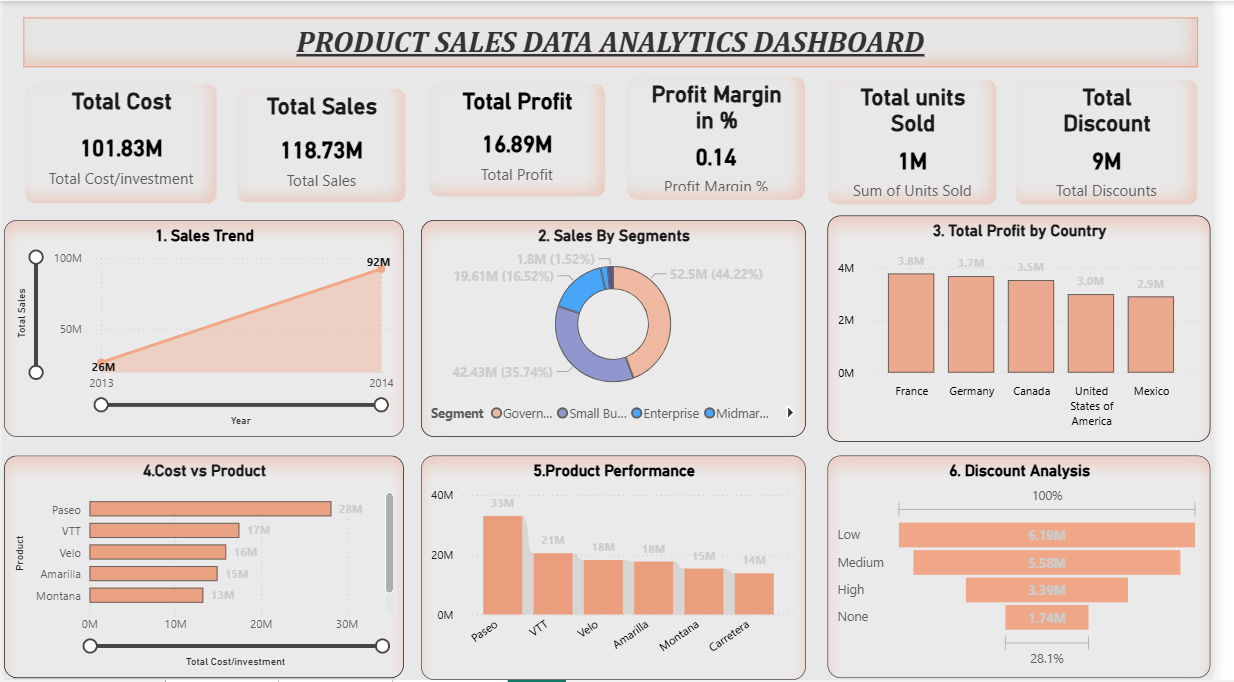

This screenshot's page, from the dashboard's own definition file:
{"tool":"powerbi","page":{"name":"Page 1","canvas":[1280,720],"ordinal":0},"visuals":[{"type":"card","title":"Total Sales","fields":{"Values":["financials.Total Sales"]},"box":[246,92,180,122],"z":0},{"type":"card","title":"Profit Margin in %","fields":{"Values":["financials.Profit Margin %"]},"box":[660,80,190,132],"z":1000},{"type":"card","title":"Total units Sold","fields":{"Values":["Sum(financials.Units Sold)"]},"box":[874,82,180,134],"z":2000},{"type":"card","title":"Total Profit","fields":{"Values":["financials.Total Profit"]},"box":[1092.7,0,187.7,120.9],"z":3000},{"type":"lineChart","title":"1. Sales Trend","fields":{"Y":["financials.Total Sales"],"Category":["financials.Date.Variation.Date Hierarchy.Year"]},"box":[0,232,424,230],"z":4000},{"type":"columnChart","title":"3. Total Profit by Country","fields":{"Category":["financials.Country"],"Y":["financials.Total Profit"]},"box":[874,228,406,240],"z":5000},{"type":"columnChart","title":"5.Product Performance","fields":{"Category":["financials.Product"],"Y":["Sum(financials. Sales)"]},"box":[442,482,408,238],"z":6000},{"type":"textbox","box":[20.7,17.5,1245.4,52.5],"z":7000},{"type":"donutChart","title":"2. Sales By Segments","fields":{"Y":["Sum(financials. Sales)"],"Category":["financials.Segment"]},"box":[442,232,408,230],"z":8000},{"type":"funnel","title":"6. Discount Analysis","fields":{"Category":["financials.Discount Band"],"Y":["Sum(financials.Profit)"]},"box":[874,482,406,236],"z":9000},{"type":"card","title":"Total Discount ","fields":{"Values":["financials.Total Discounts"]},"box":[1072,82,194,134],"z":10000},{"type":"card","title":"Total Cost","fields":{"Values":["financials.Total Cost/investment"]},"box":[22,88,204,128],"z":11000},{"type":"barChart","title":"4.Cost vs Product","fields":{"Category":["financials.Product"],"Y":["financials.Total Cost/investment"]},"box":[0,482,424,236],"z":12000}]}

Visuals, with their boxes in screenshot pixels (x1, y1, x2, y2), scaled from the page's 1280x720 canvas onto the 1234x682 screenshot:
"Total Sales" card: [left=237, top=87, right=411, bottom=203]
"Profit Margin in %" card: [left=636, top=76, right=819, bottom=201]
"Total units Sold" card: [left=843, top=78, right=1016, bottom=205]
"Total Profit" card: [left=1053, top=0, right=1233, bottom=115]
"1. Sales Trend" lineChart: [left=0, top=220, right=409, bottom=438]
"3. Total Profit by Country" columnChart: [left=843, top=216, right=1233, bottom=443]
"5.Product Performance" columnChart: [left=426, top=457, right=819, bottom=681]
textbox: [left=20, top=17, right=1221, bottom=66]
"2. Sales By Segments" donutChart: [left=426, top=220, right=819, bottom=438]
"6. Discount Analysis" funnel: [left=843, top=457, right=1233, bottom=680]
"Total Discount " card: [left=1033, top=78, right=1221, bottom=205]
"Total Cost" card: [left=21, top=83, right=218, bottom=205]
"4.Cost vs Product" barChart: [left=0, top=457, right=409, bottom=680]
